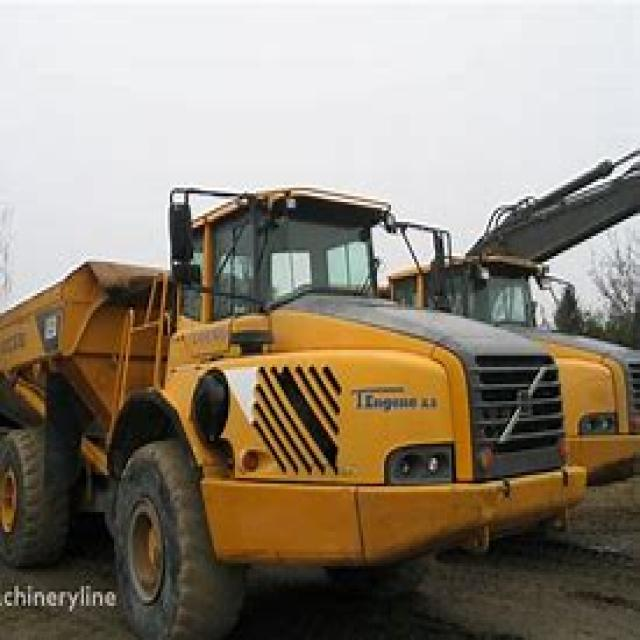dump_truck: (2, 157, 586, 637)
